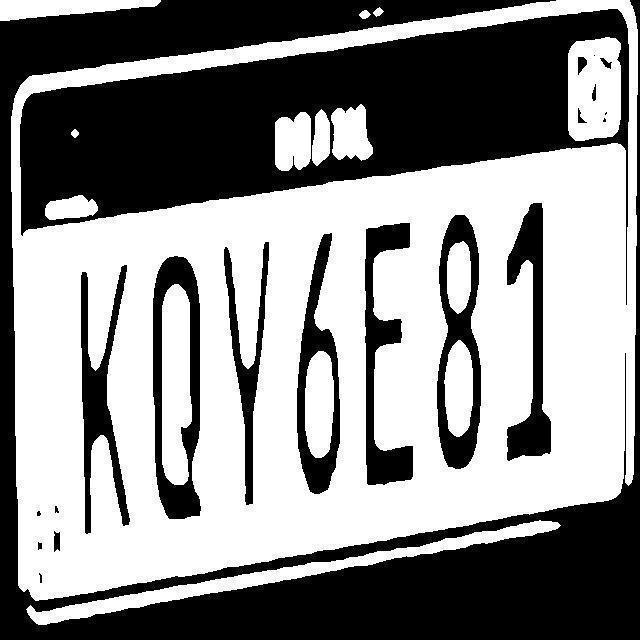1: (494, 199, 558, 466)
6: (290, 230, 350, 496)
8: (431, 212, 486, 471)
e: (359, 220, 421, 490)
k: (74, 262, 138, 540)
q: (148, 255, 208, 524)
y: (221, 240, 279, 508)
